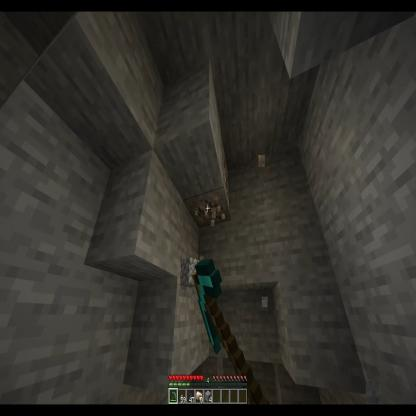iron ore: (184, 150, 230, 231)
